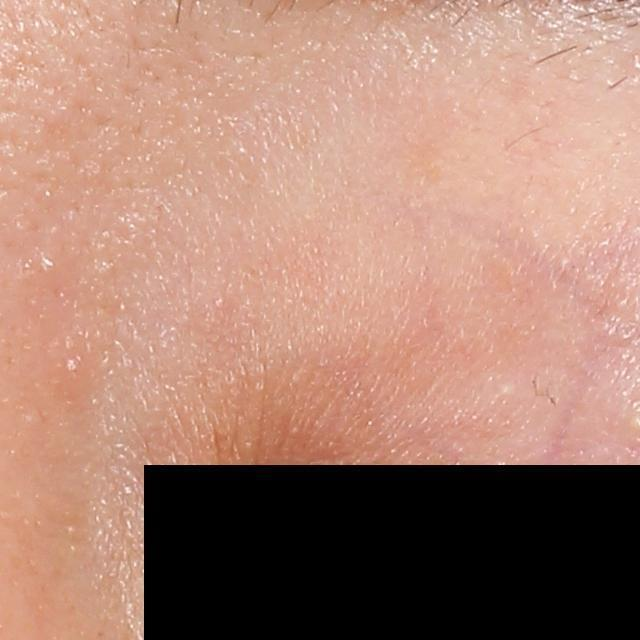comedo: (58, 350, 87, 382)
